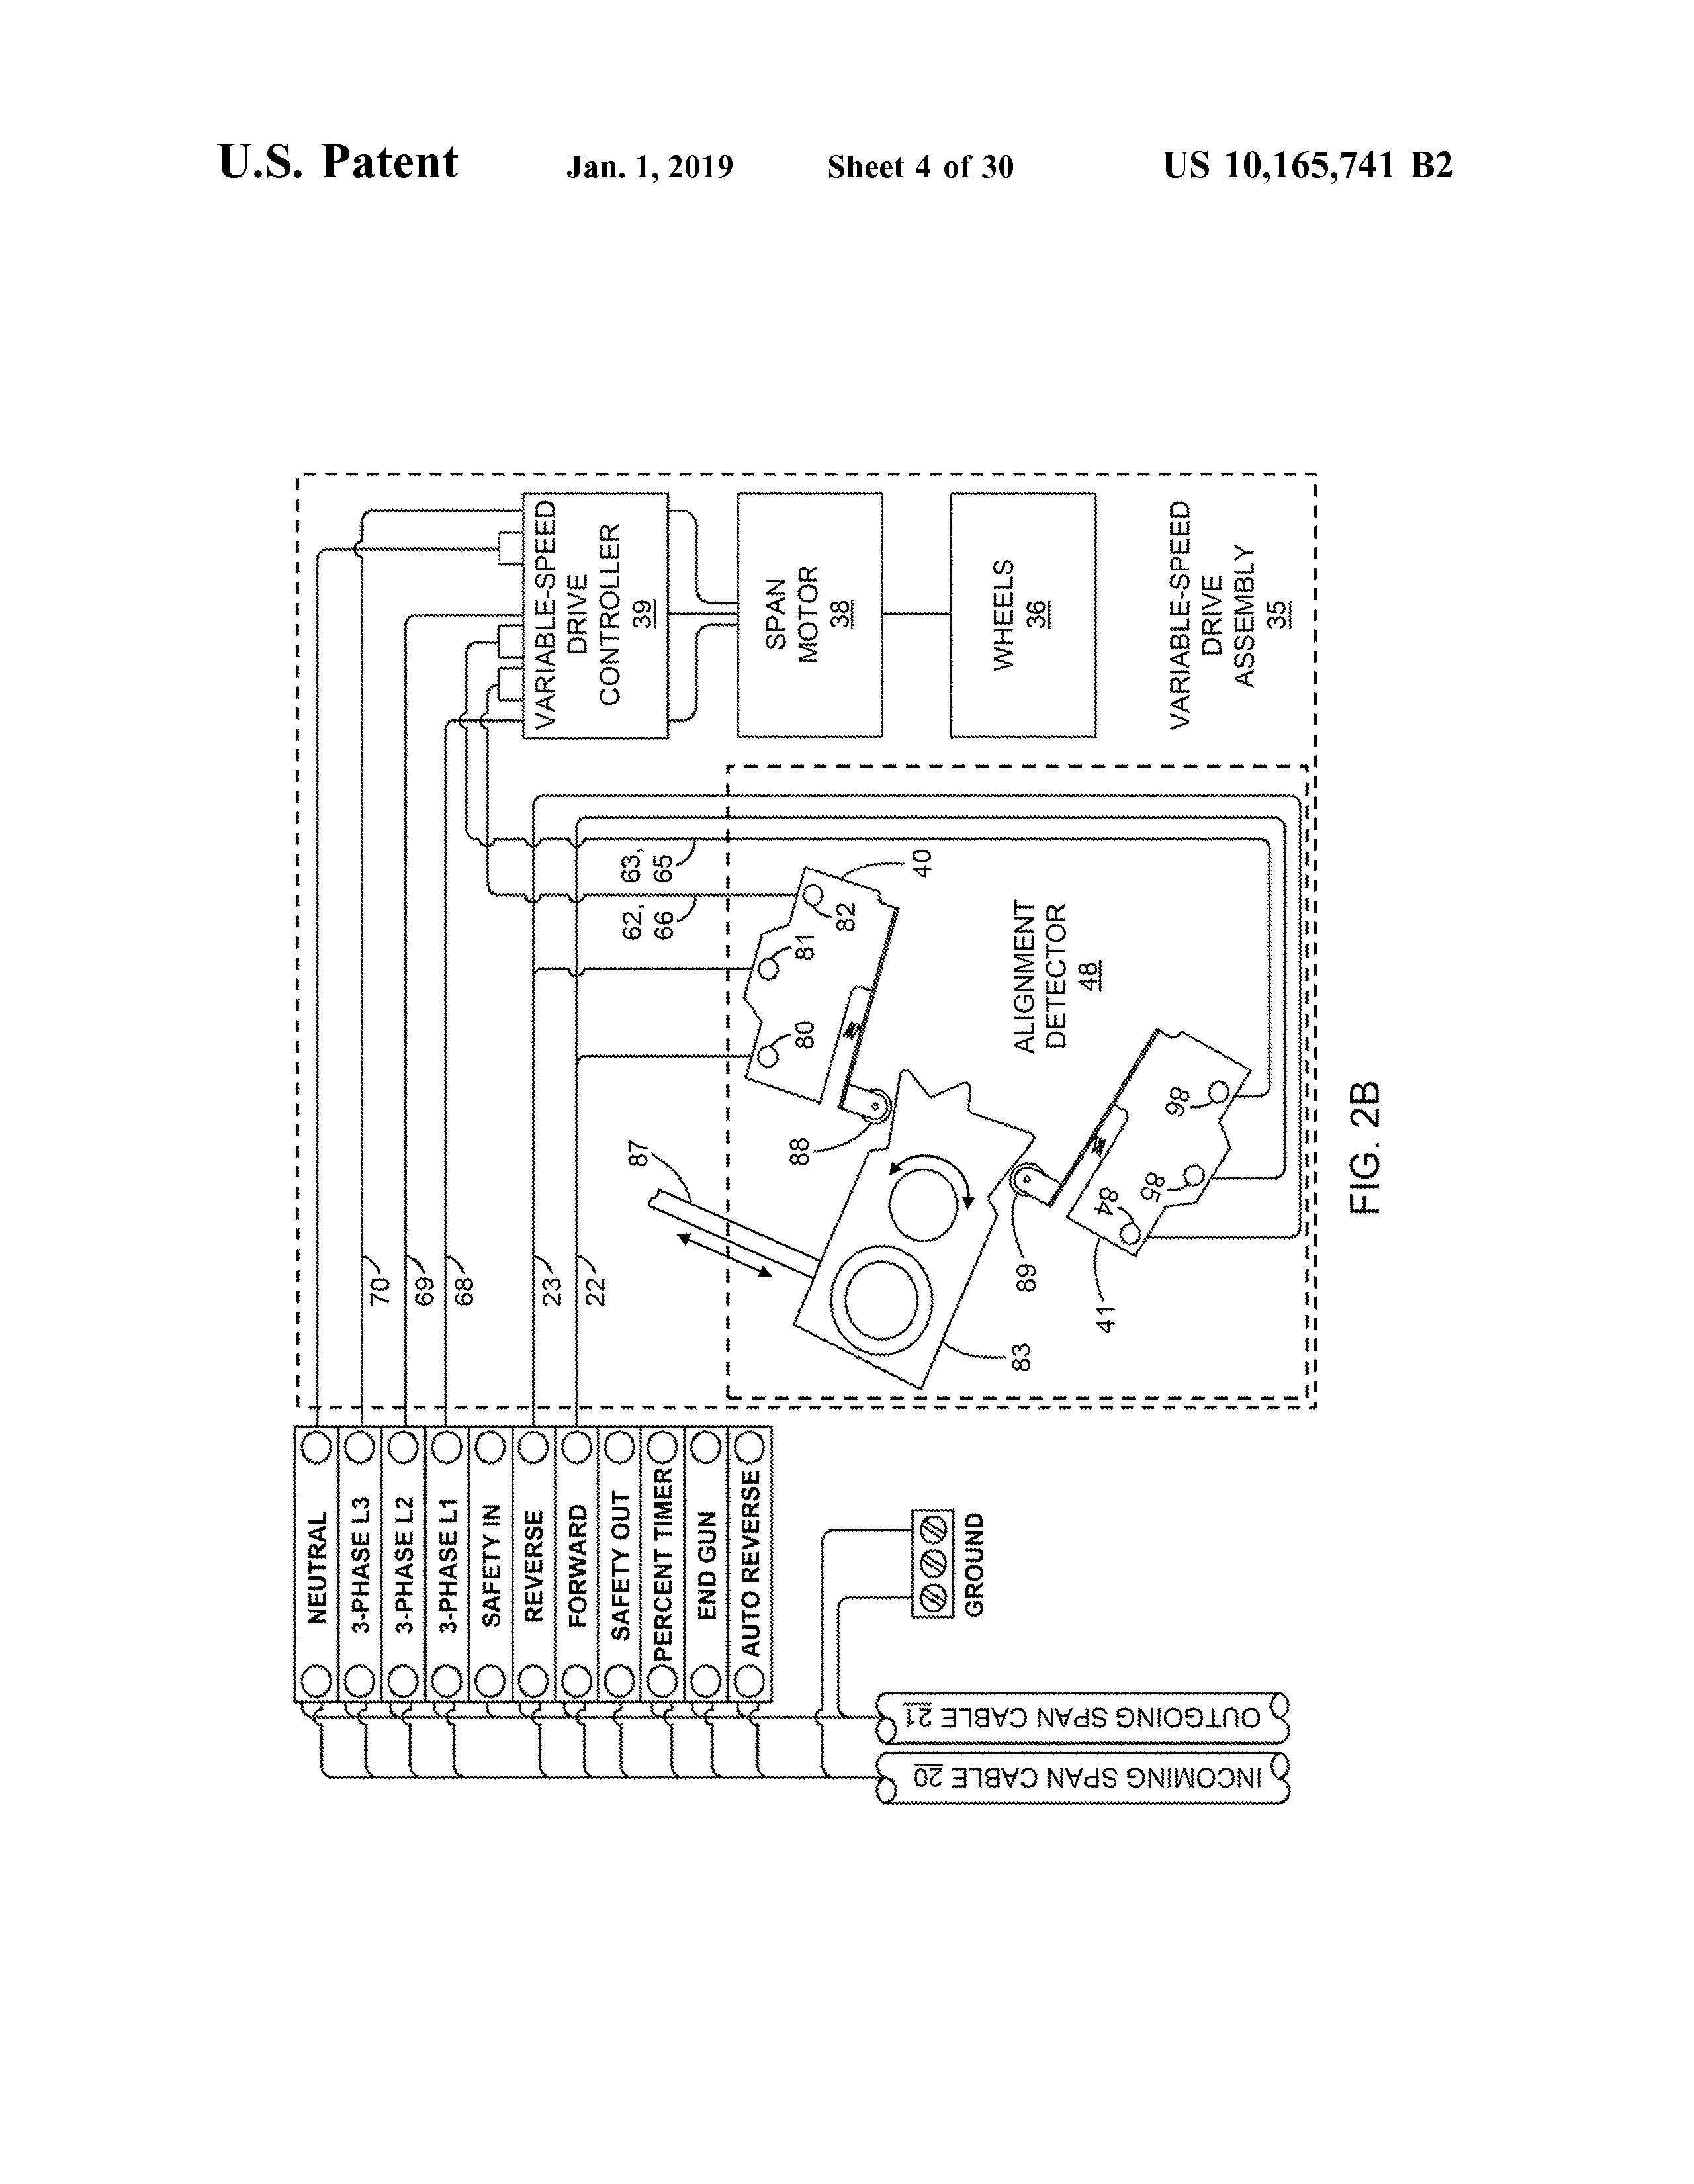patent image: (247, 444, 1460, 1811)
